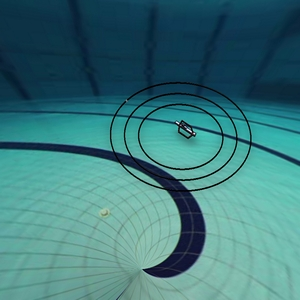circle: (96, 71, 260, 202)
submarine: (167, 111, 201, 151)
